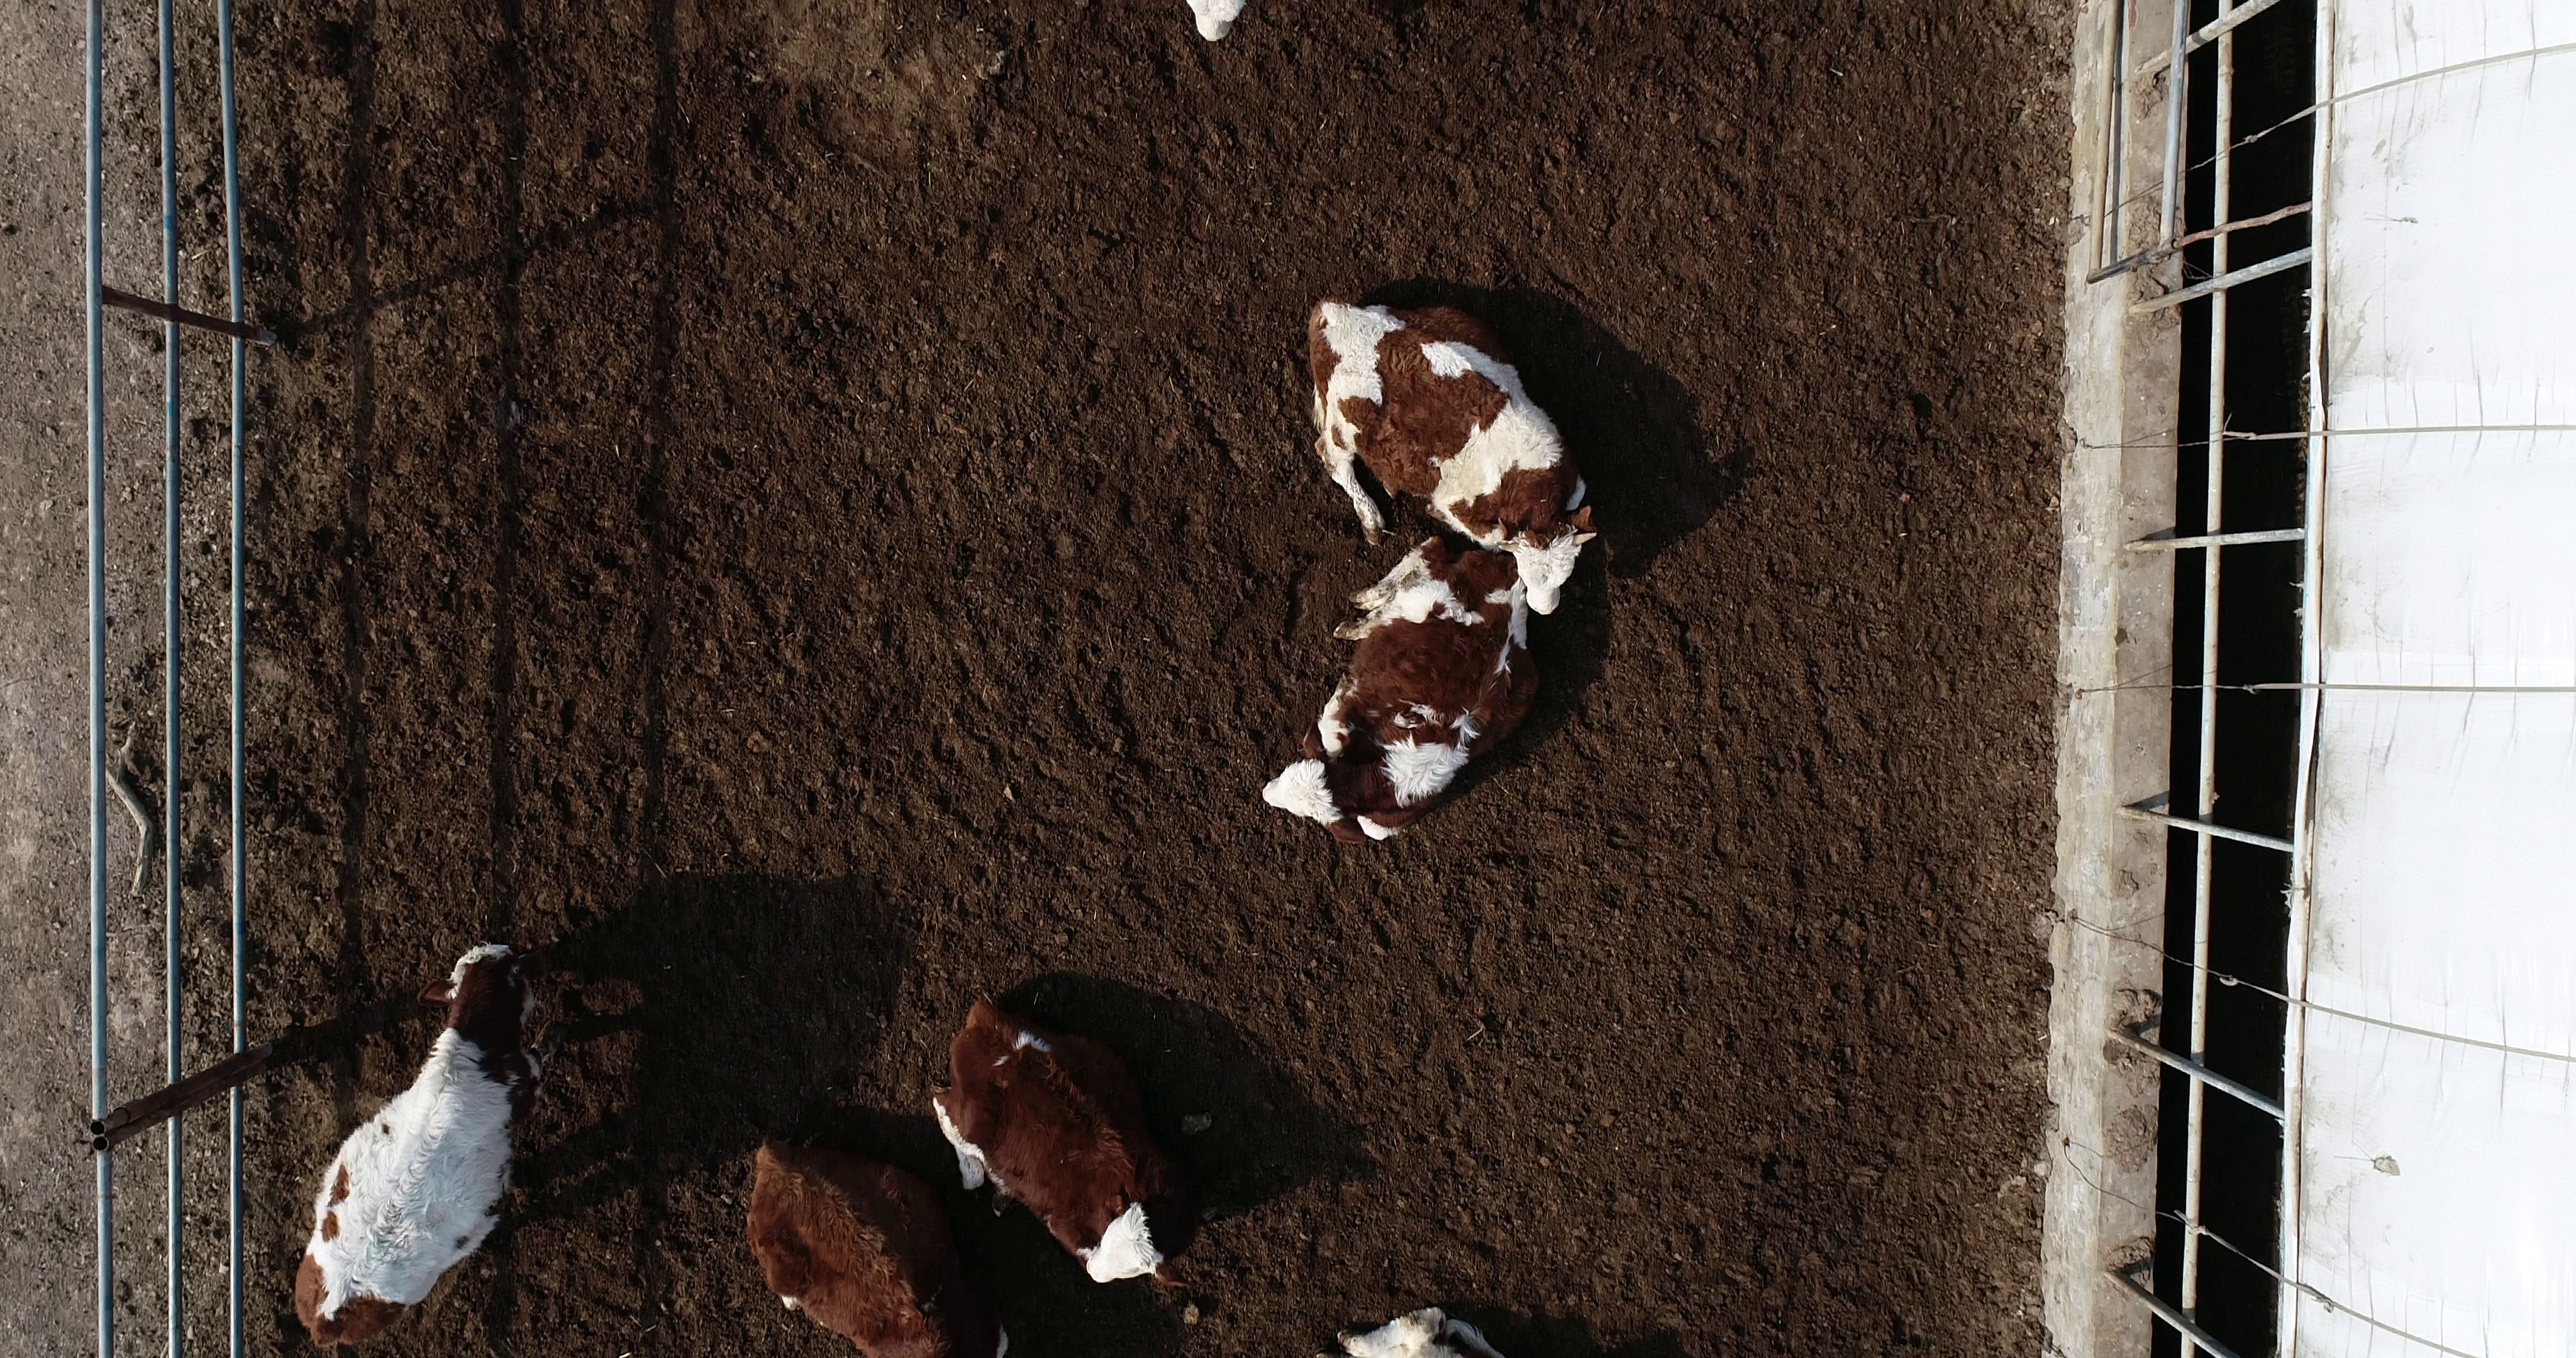cattle: (286, 941, 579, 1358), (1300, 291, 1610, 620)
